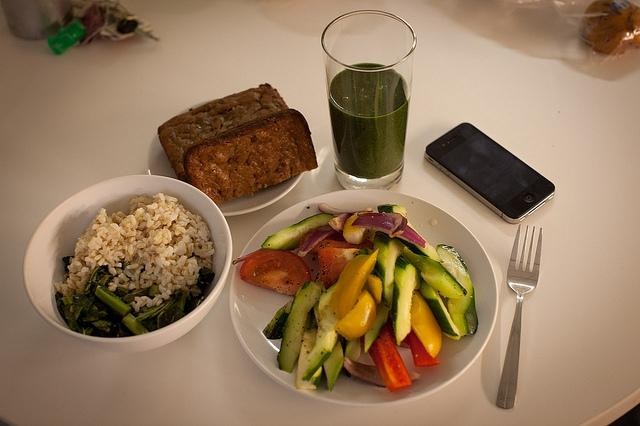bell pepper: (330, 248, 380, 320), (368, 322, 413, 392), (334, 288, 376, 340), (410, 290, 442, 358), (408, 330, 440, 367)
onion: (351, 212, 426, 249), (343, 356, 421, 388), (298, 226, 338, 257), (386, 212, 408, 238), (328, 213, 354, 233)
tomato: (360, 325, 412, 392), (240, 250, 314, 296), (300, 231, 374, 255), (318, 248, 361, 289), (408, 330, 440, 367)
